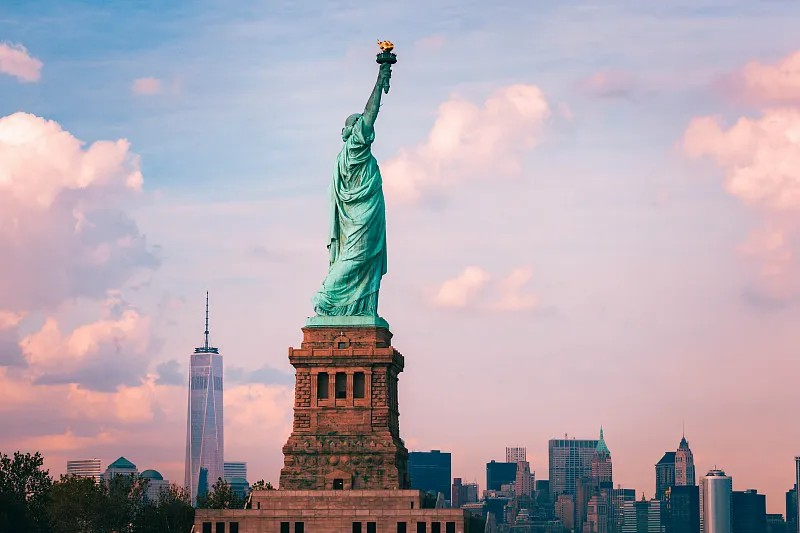SL: (279, 38, 409, 488)
